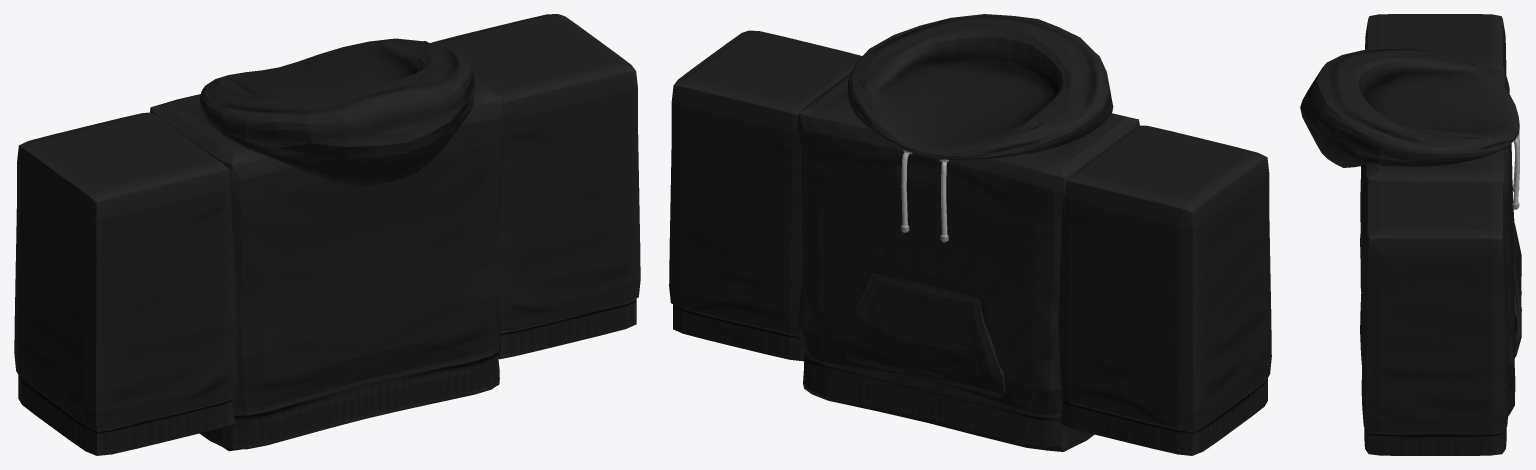
3 views of the same model, side by side, from view 1: azimuth 30°, elevation 25°; view 2: azimuth 150°, elevation 25°; view 3: azimuth 270°, elevation 25° (orthographic). The views are drawn at different scales.
Parts seen in each view (by area): view 1: geometry_0; view 2: geometry_0; view 3: geometry_0.
Boxes of the visible parts, x1,y1,x2,y2 form: geometry_0: [14, 14, 640, 455]; geometry_0: [669, 14, 1271, 455]; geometry_0: [1300, 14, 1521, 455].
Size of the model in its own units: 4.12 by 2.46 by 1.68.
Materials: 1 (1 with a texture image).
